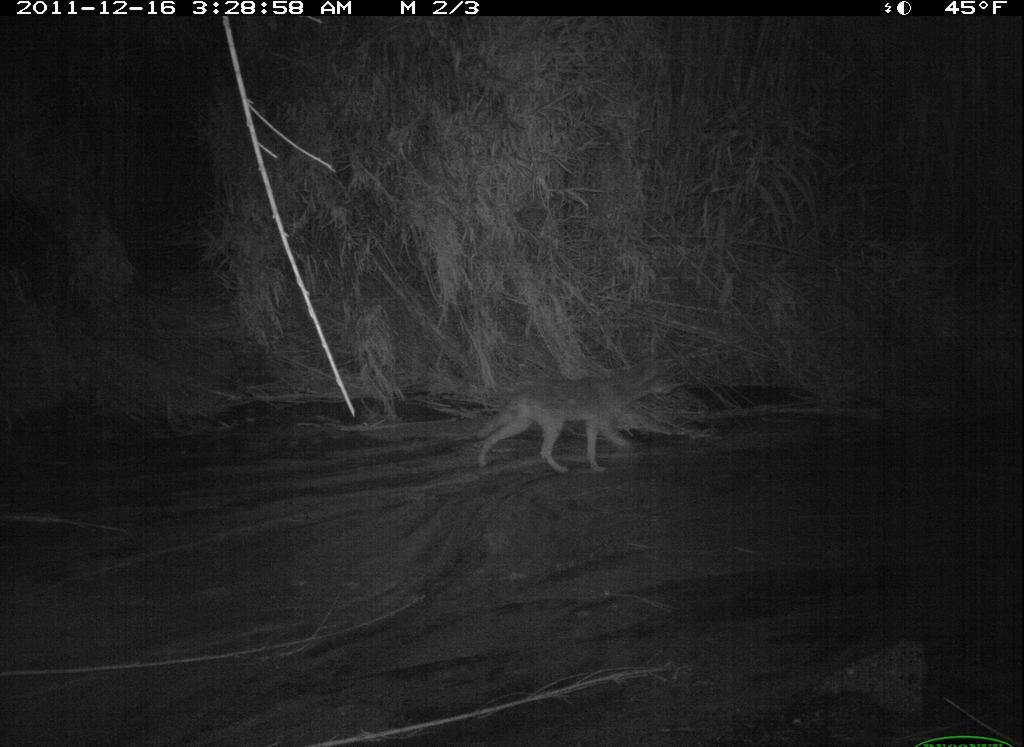coyote: (474, 358, 684, 478)
